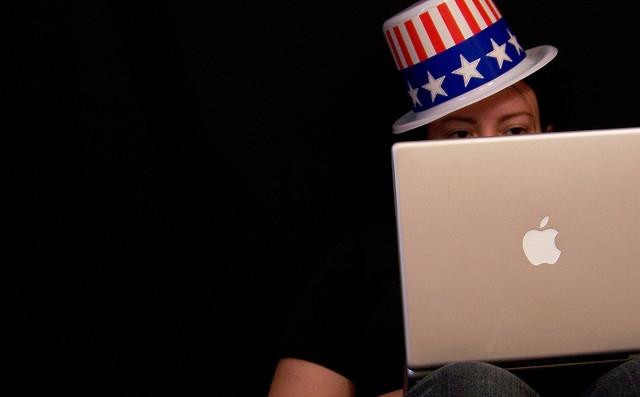apple: (522, 216, 562, 266)
